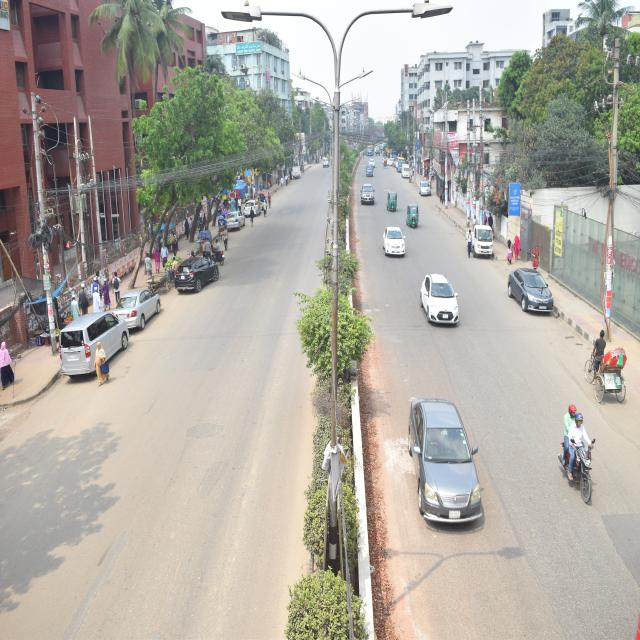car: (398, 367, 490, 513), (48, 296, 141, 378), (414, 256, 470, 345), (499, 262, 567, 335), (114, 269, 170, 336), (169, 241, 227, 304), (379, 221, 407, 273), (213, 198, 251, 234), (357, 177, 380, 217), (245, 187, 265, 225), (415, 174, 436, 205), (393, 153, 411, 179), (363, 158, 379, 182)
motorbike: (554, 383, 600, 501), (207, 231, 234, 271)
pickup-van: (466, 212, 512, 258)
